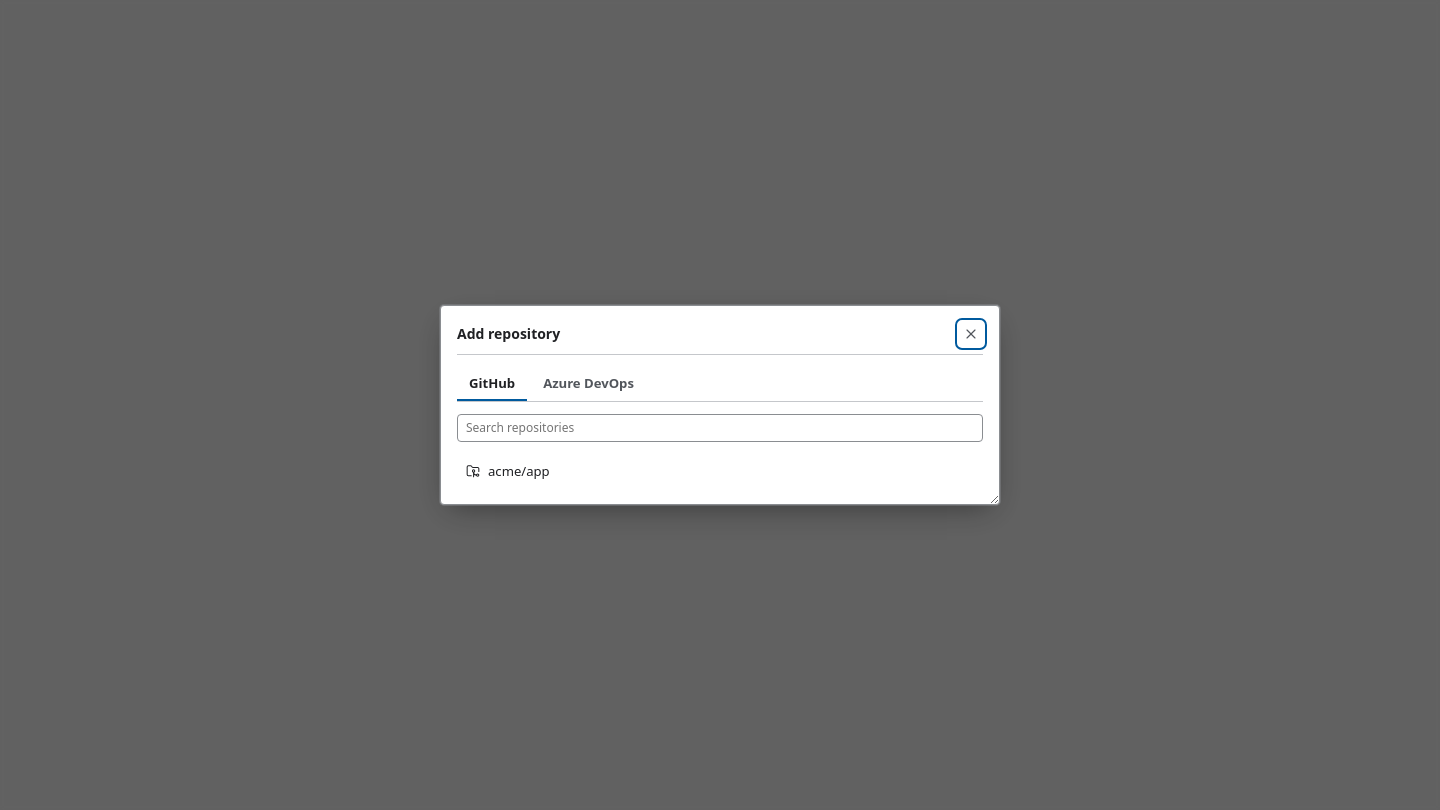
Test: RepoPicker context add flow › browses for an existing checkout folder and uses it as-is
Click the button "acme/app": click(519, 471) [457, 454, 983, 488]
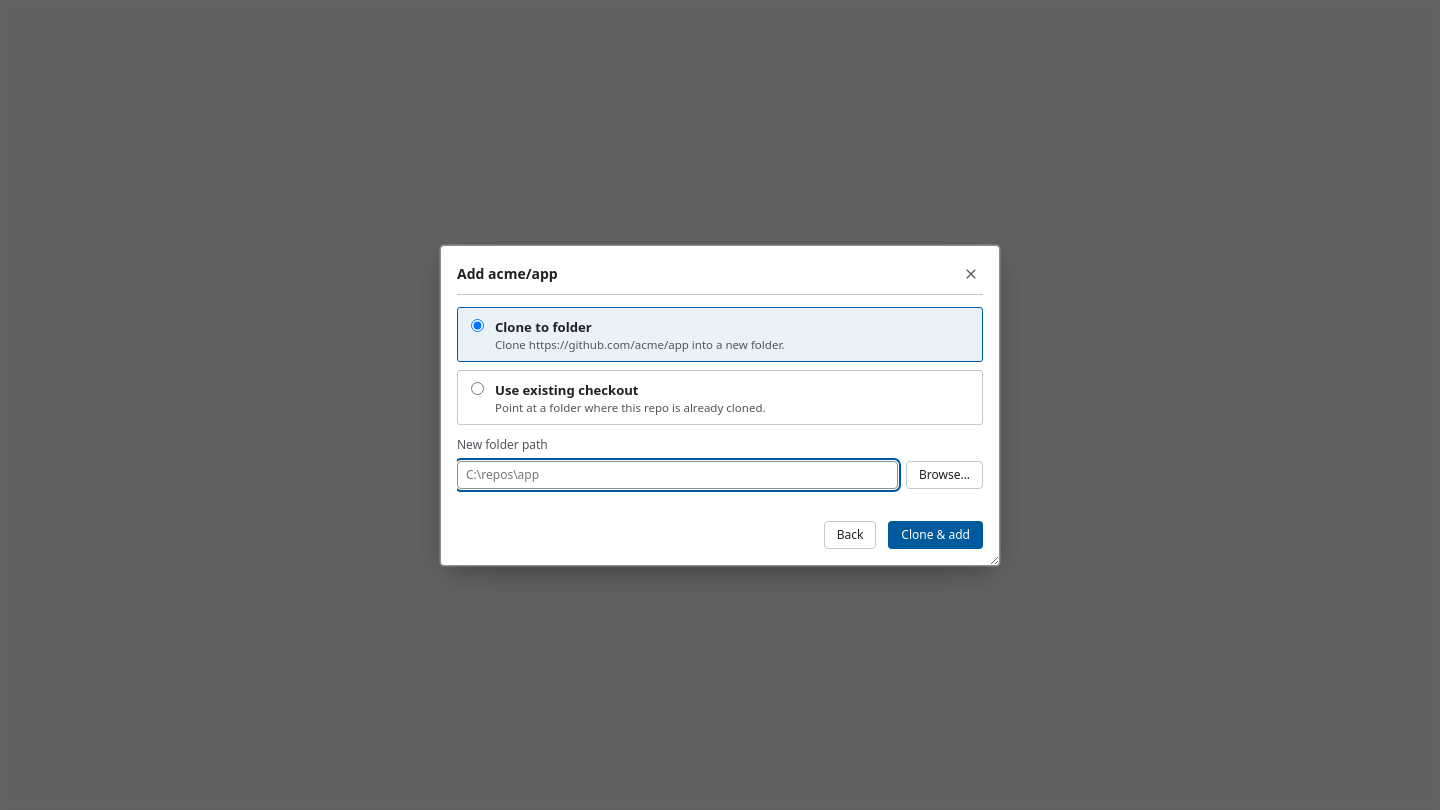
Click the radio button labelled "Use existing checkout": click(478, 388) [471, 382, 484, 394]
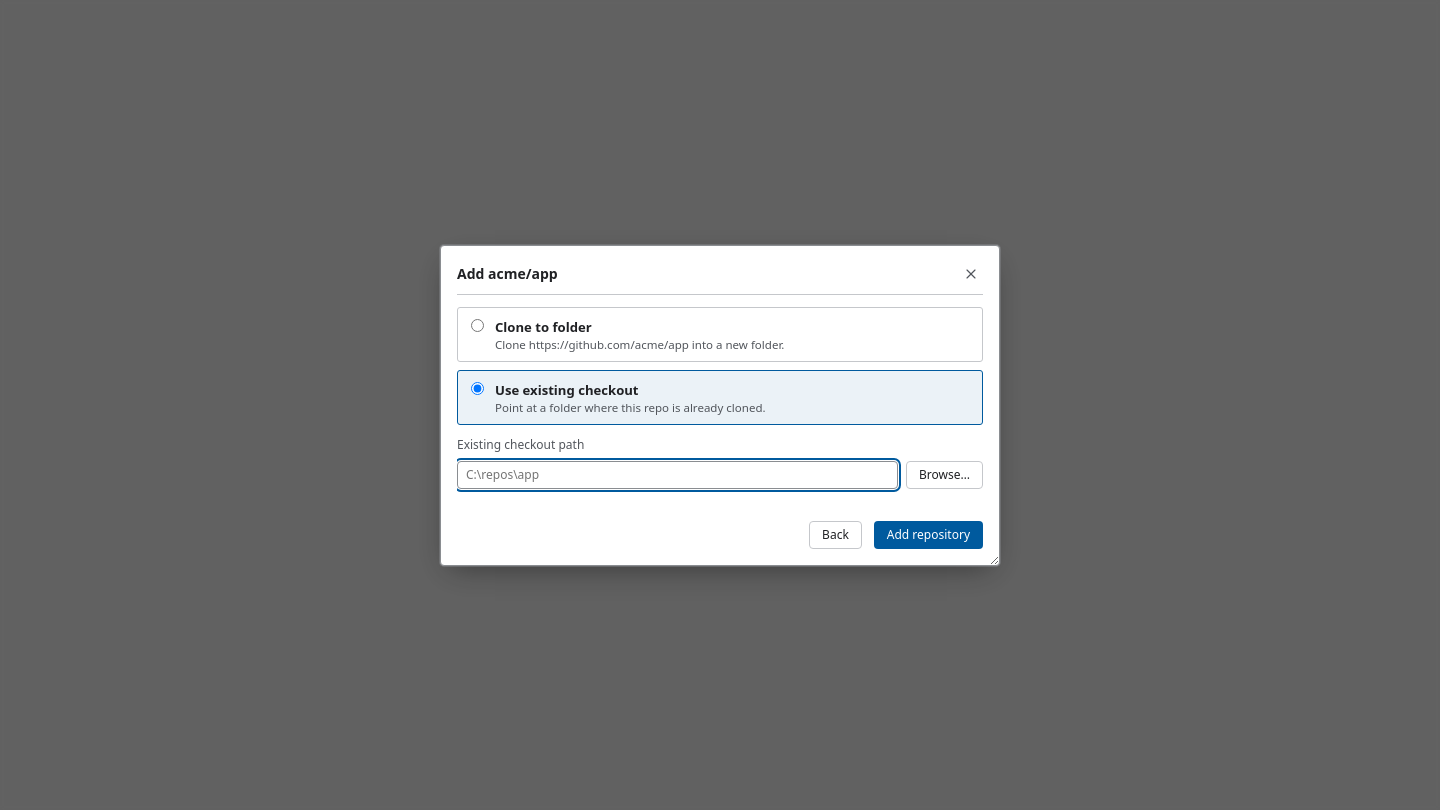
Click the button "Browse…": click(944, 474) [906, 460, 983, 488]
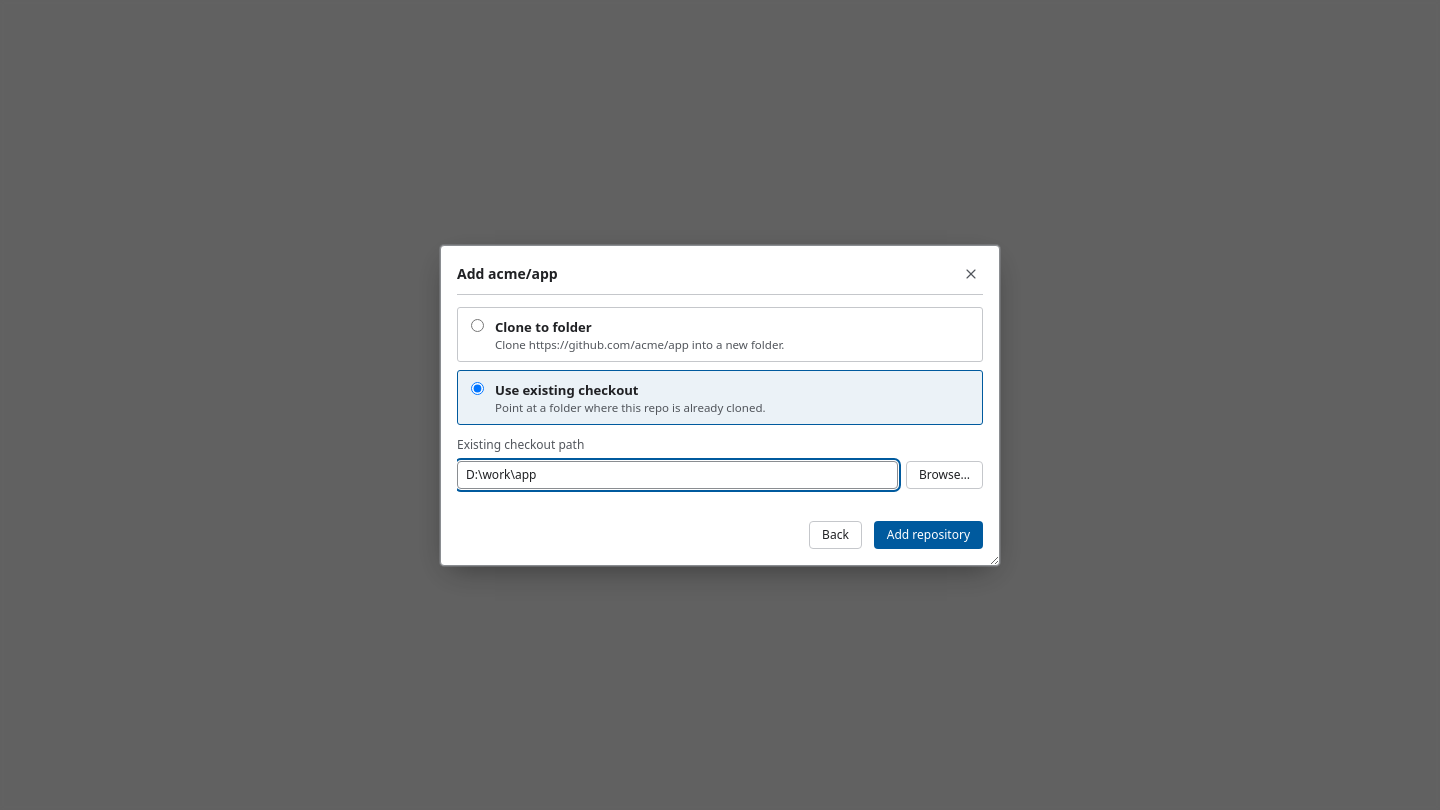
Expected: the field labelled "Existing checkout path" holds "D:\\work\\app", [457, 460, 898, 488]
